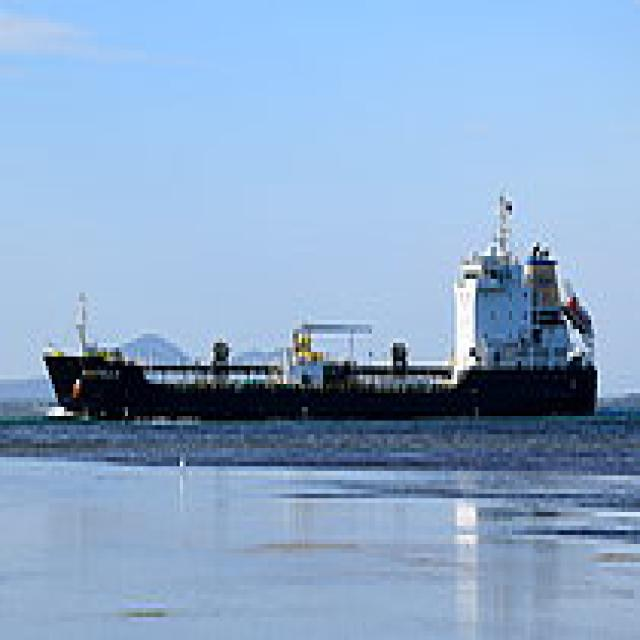Tanker: (36, 187, 598, 416)
